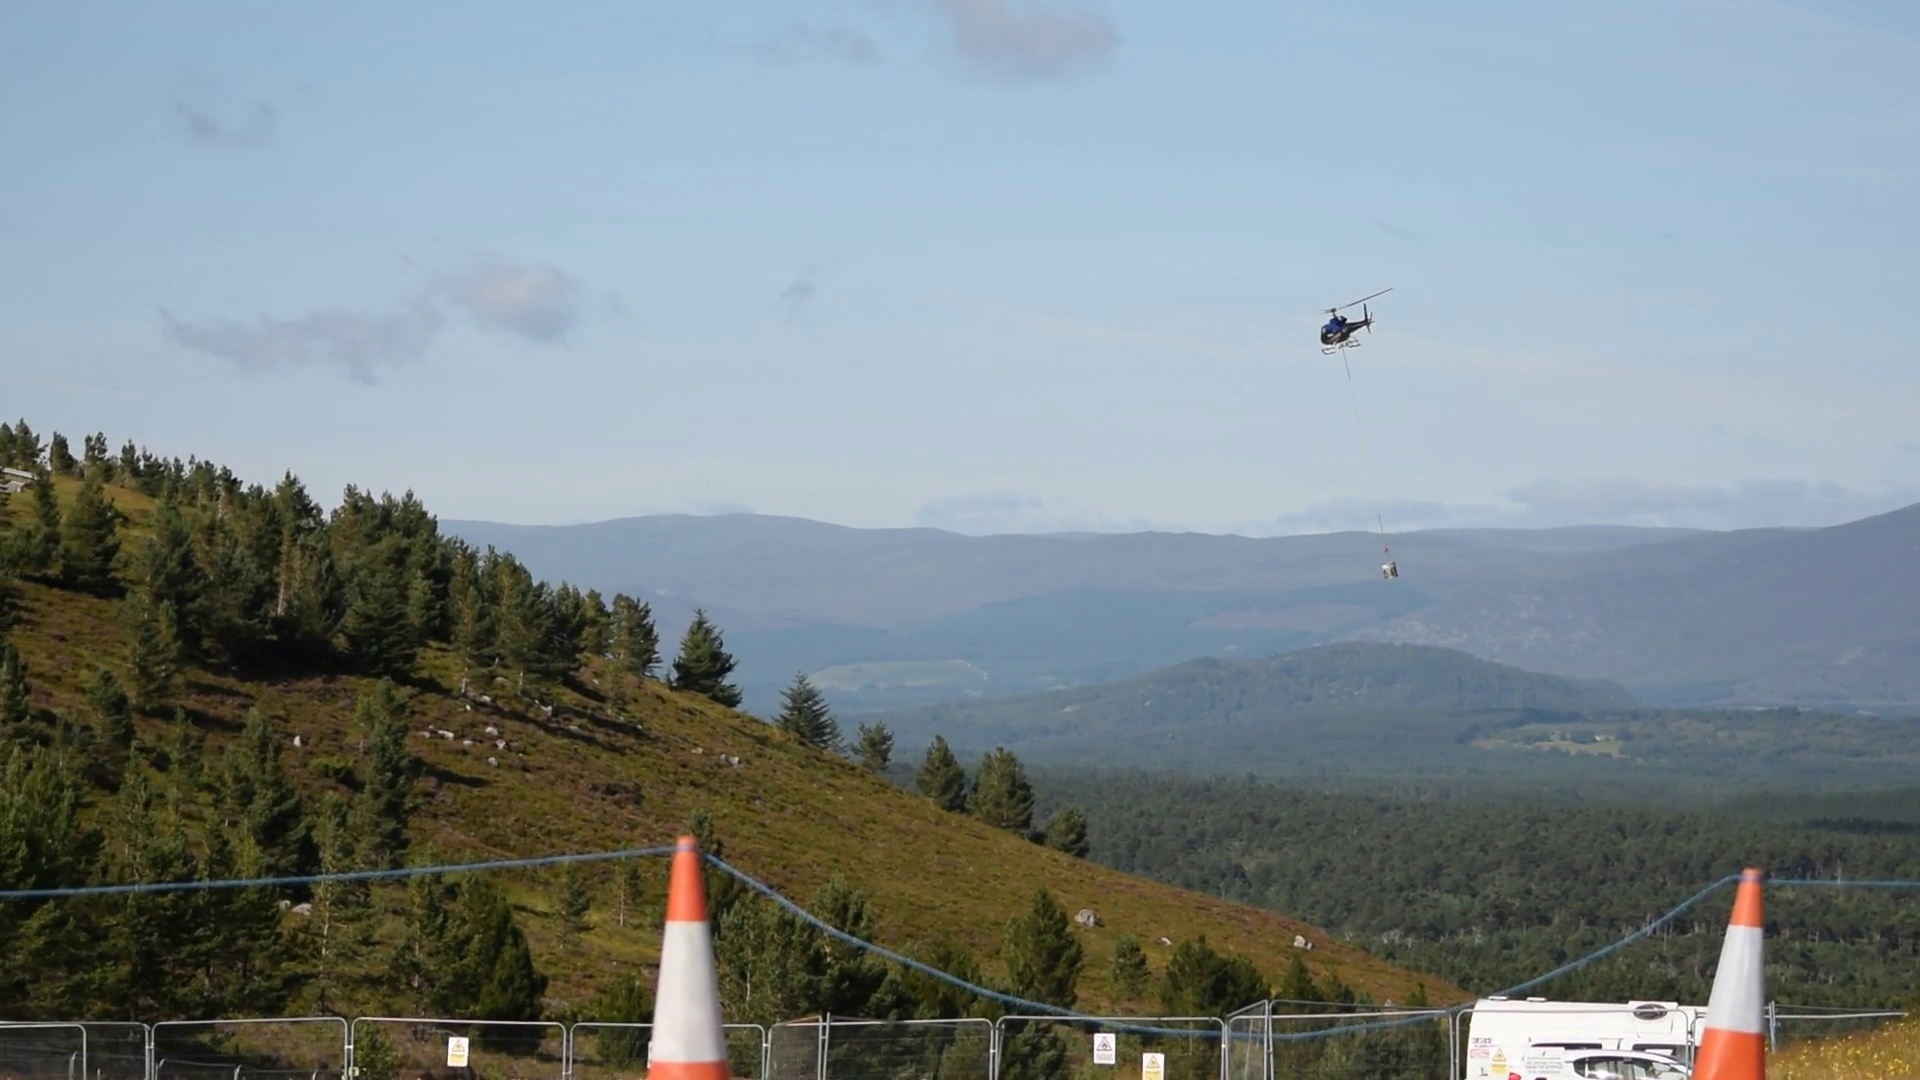heli: (1309, 287, 1390, 353)
